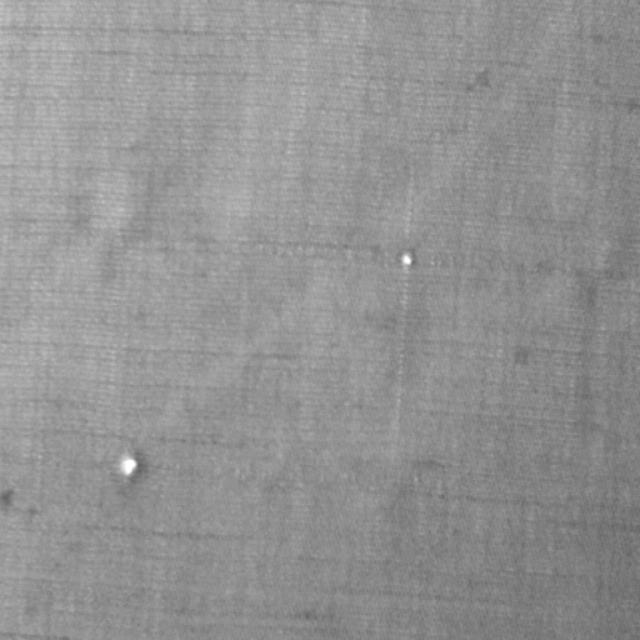hole: (118, 452, 139, 482), (398, 249, 414, 269)
